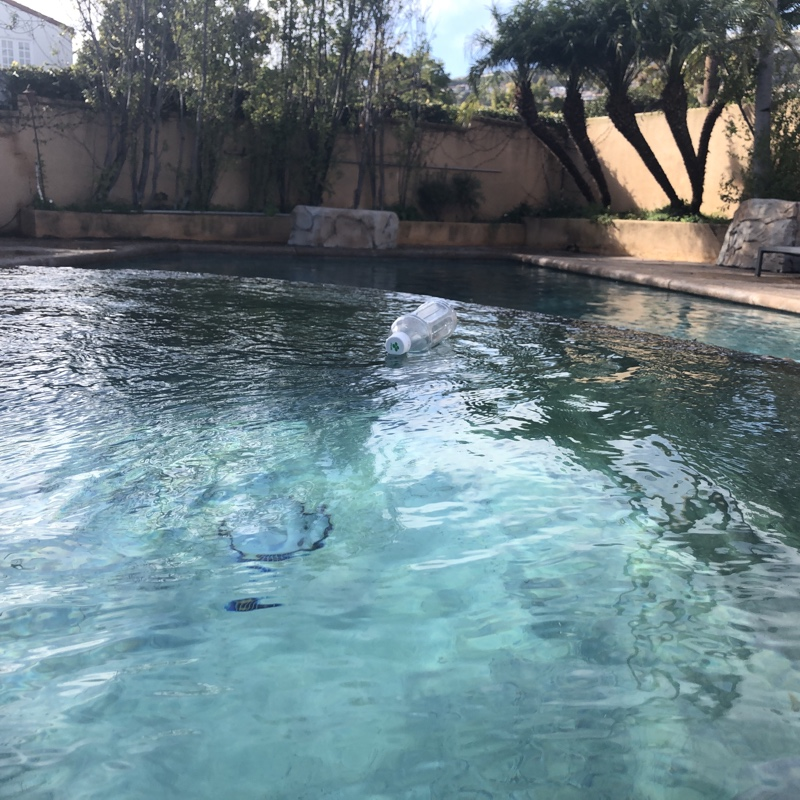Plastic Bottle: (380, 296, 461, 360)
